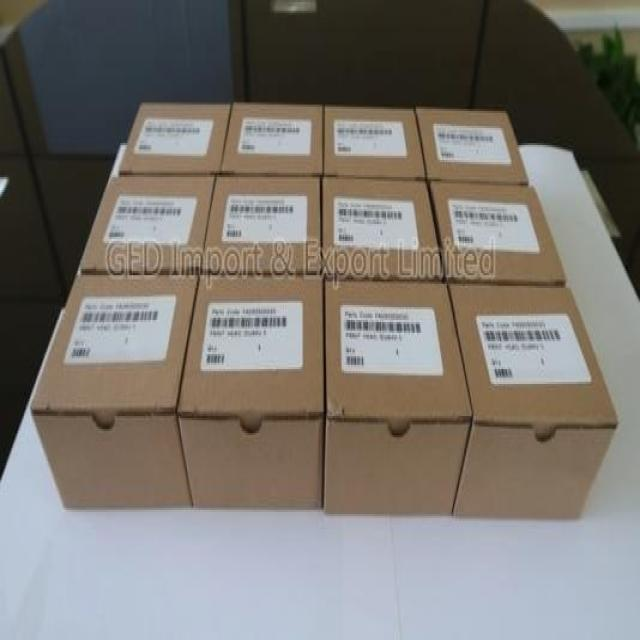box: (31, 271, 198, 508), (449, 284, 618, 518), (324, 282, 471, 514), (180, 273, 322, 510), (427, 179, 566, 284), (79, 177, 213, 273), (322, 177, 446, 279), (201, 177, 321, 275), (417, 109, 531, 181), (119, 102, 231, 173), (222, 102, 322, 177), (322, 107, 424, 175)
